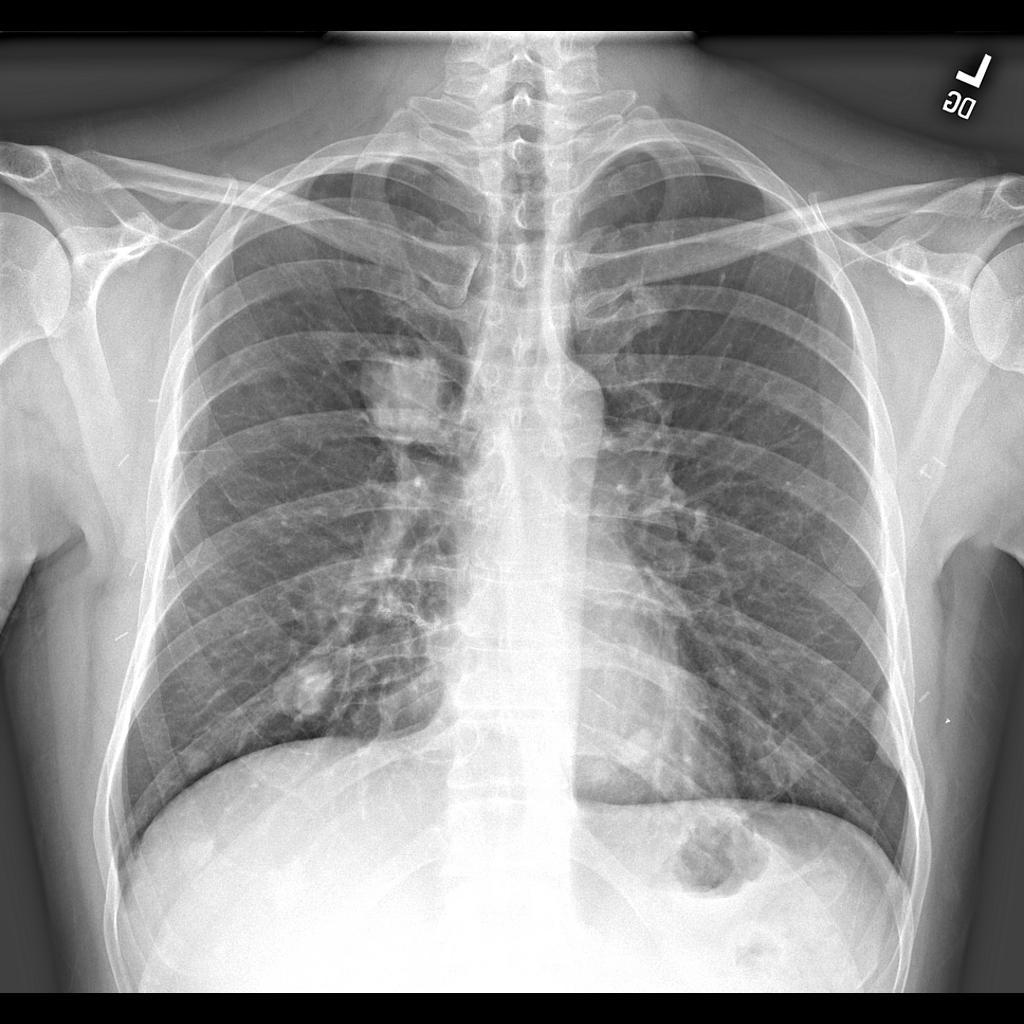Nodule: (349, 343, 450, 452), (267, 644, 343, 729), (617, 716, 667, 775)
